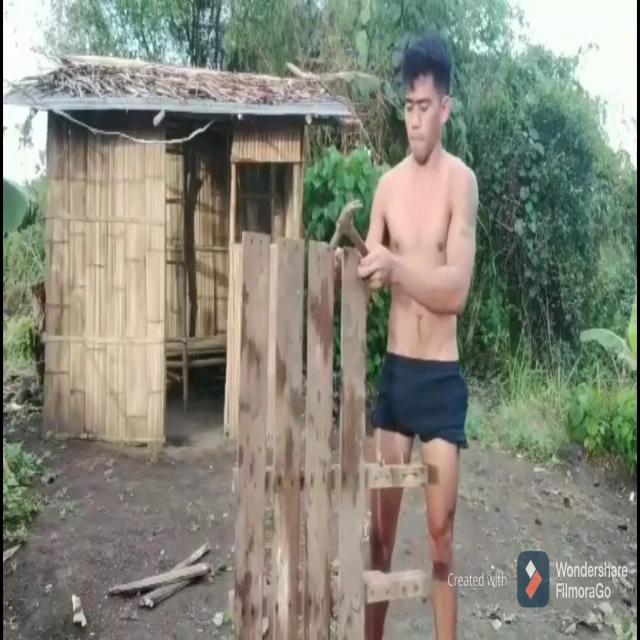hammer: (330, 200, 370, 257)
